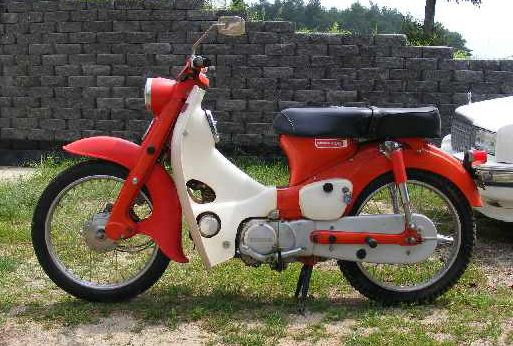bike: (31, 16, 489, 308)
